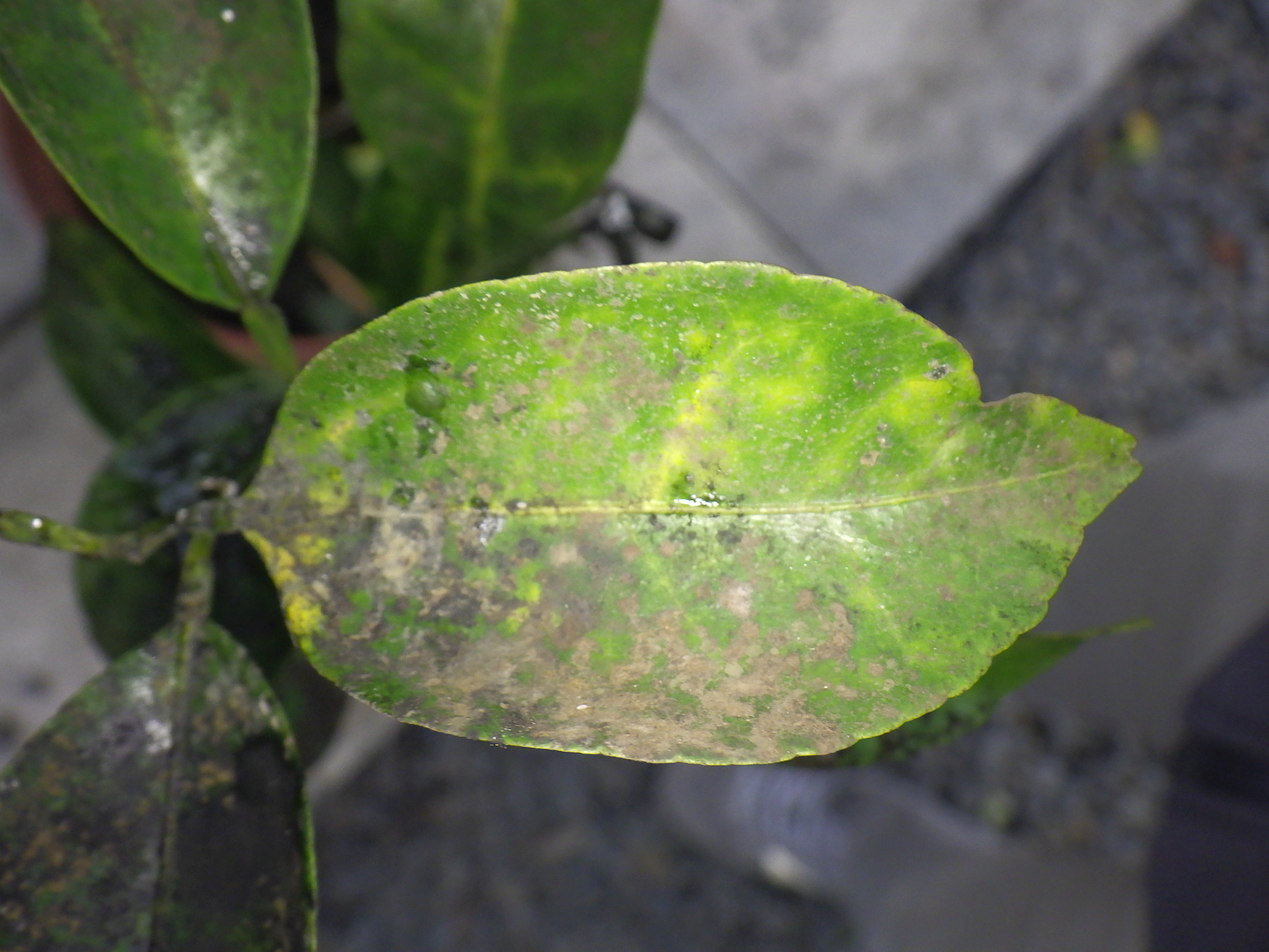Sooty_Mold: (239, 263, 1137, 763)
